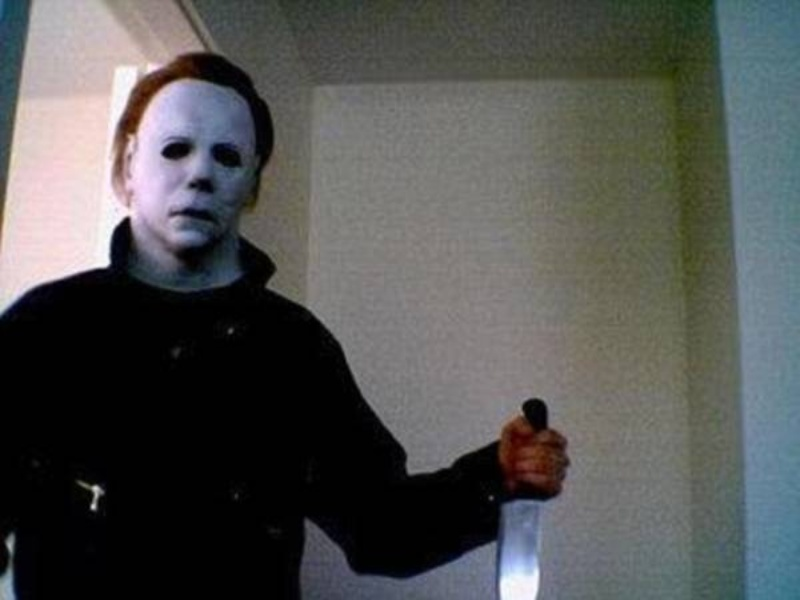hand: (498, 418, 570, 491)
knife: (496, 491, 545, 600)
person: (1, 51, 573, 600)
